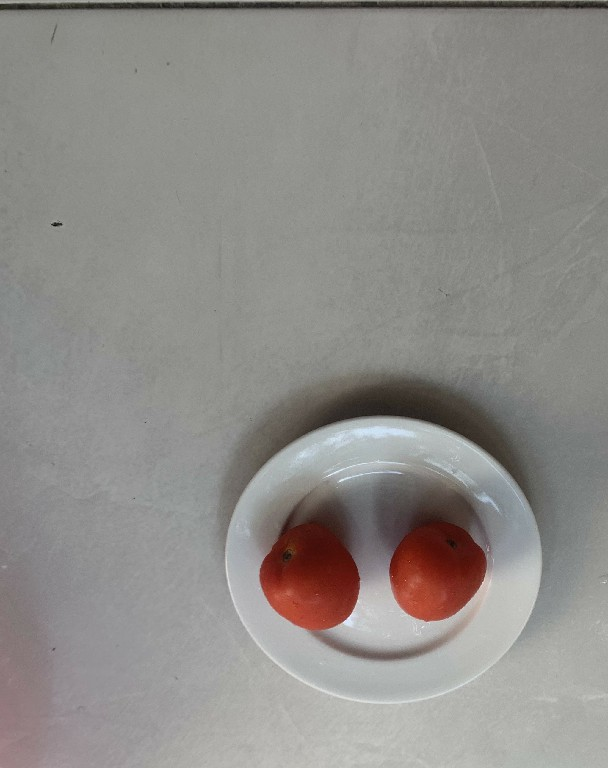OK: (257, 516, 362, 636), (387, 513, 488, 627)
